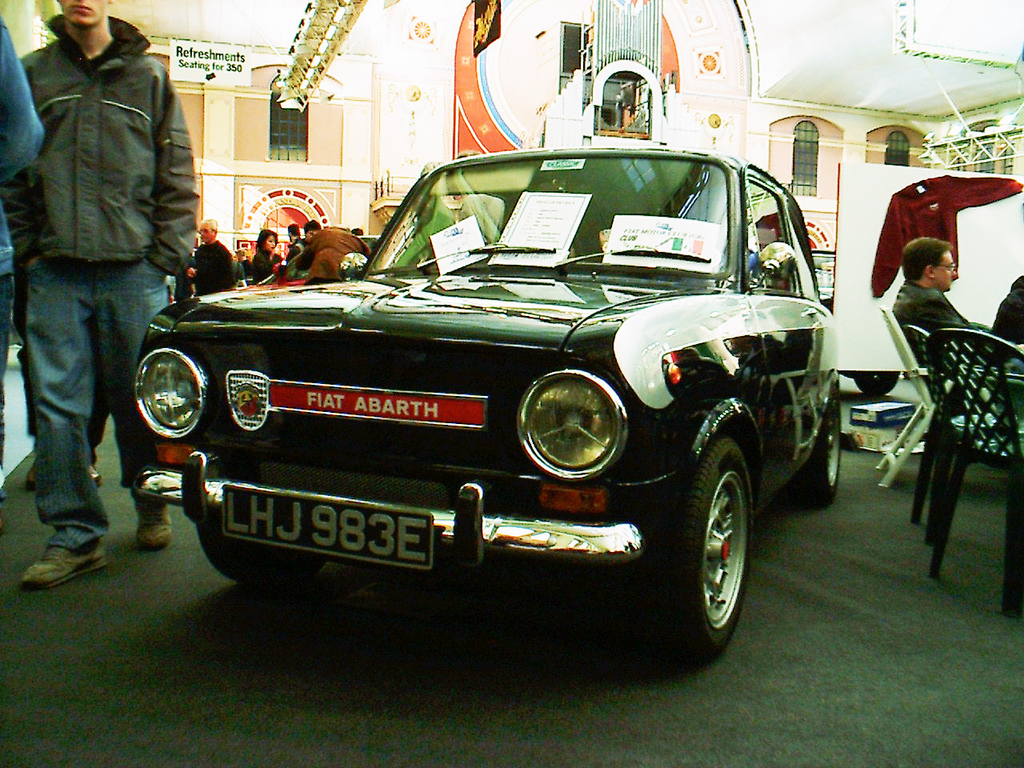Car: (146, 135, 844, 671)
